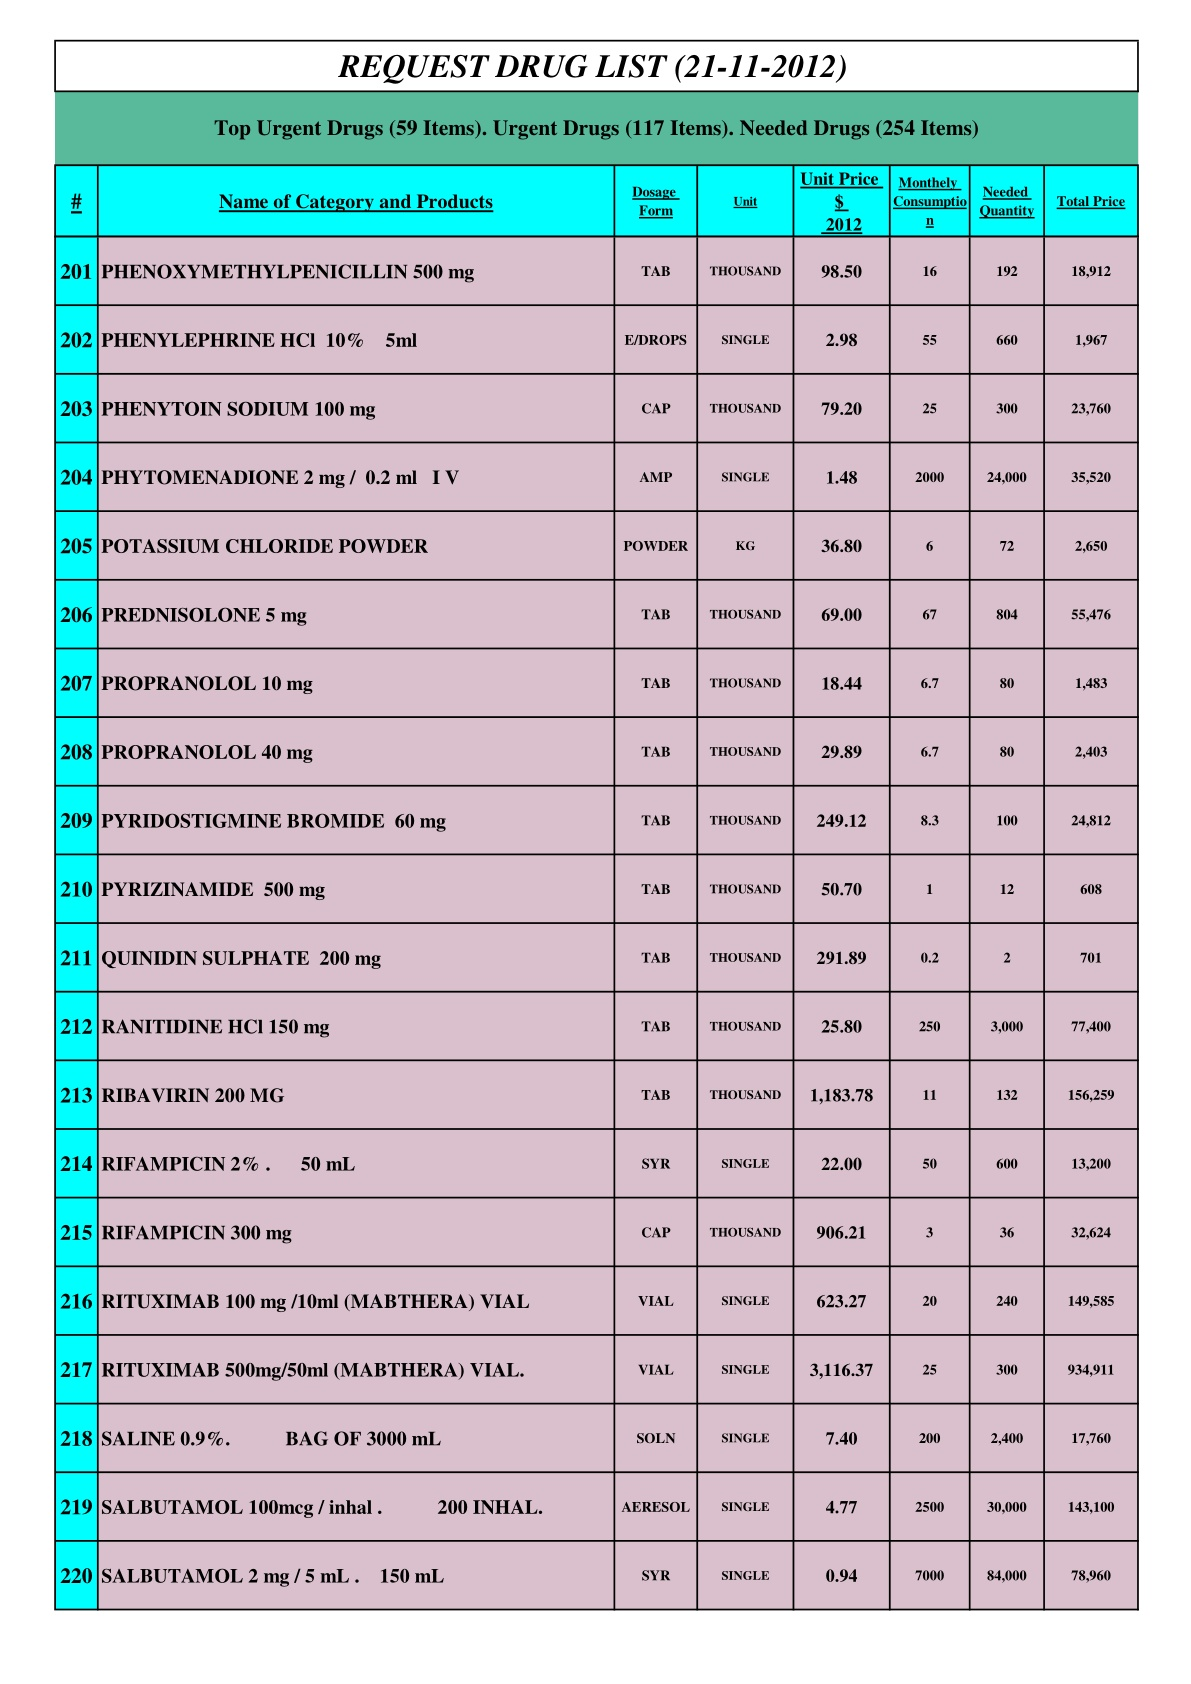merged_cells: (52, 37, 1139, 1611)
